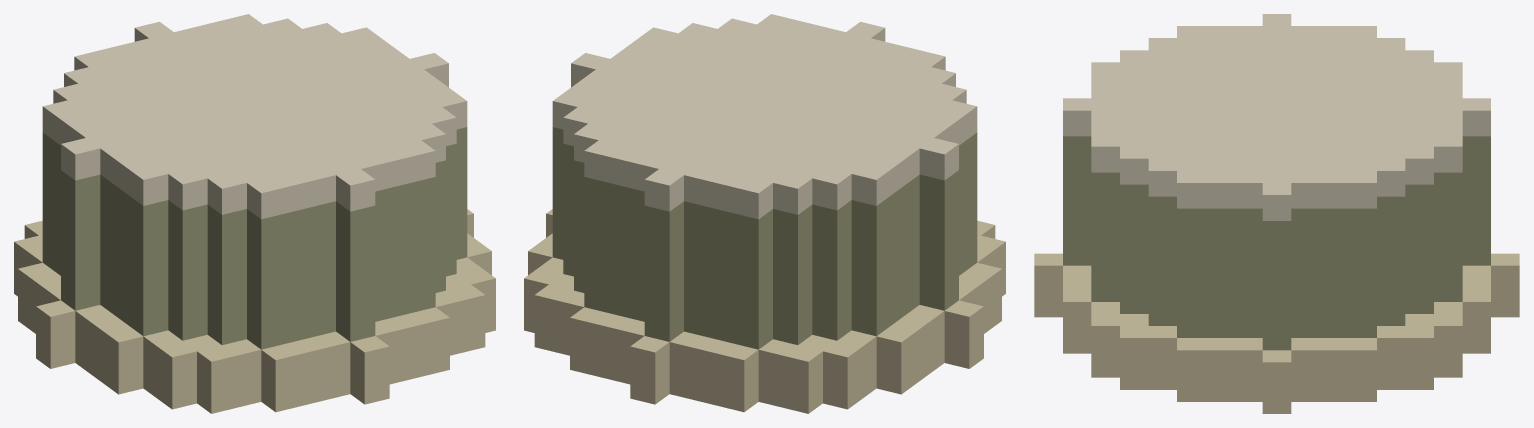
Rendered from chemistry-10.glb.
The picture shows the model from 3 angles, left to right: view 1: azimuth 30°, elevation 25°; view 2: azimuth 150°, elevation 25°; view 3: azimuth 270°, elevation 25°; orthographic projection.
Visible parts, largest first — view 1: Beaker; view 2: Beaker; view 3: Beaker.
Part boxes in pixels (<box>): Beaker: <box>14,14,495,413</box>; Beaker: <box>524,14,1005,413</box>; Beaker: <box>1034,14,1519,413</box>.
Bounding box in the file's own units: 1.36 × 0.64 × 1.36.
